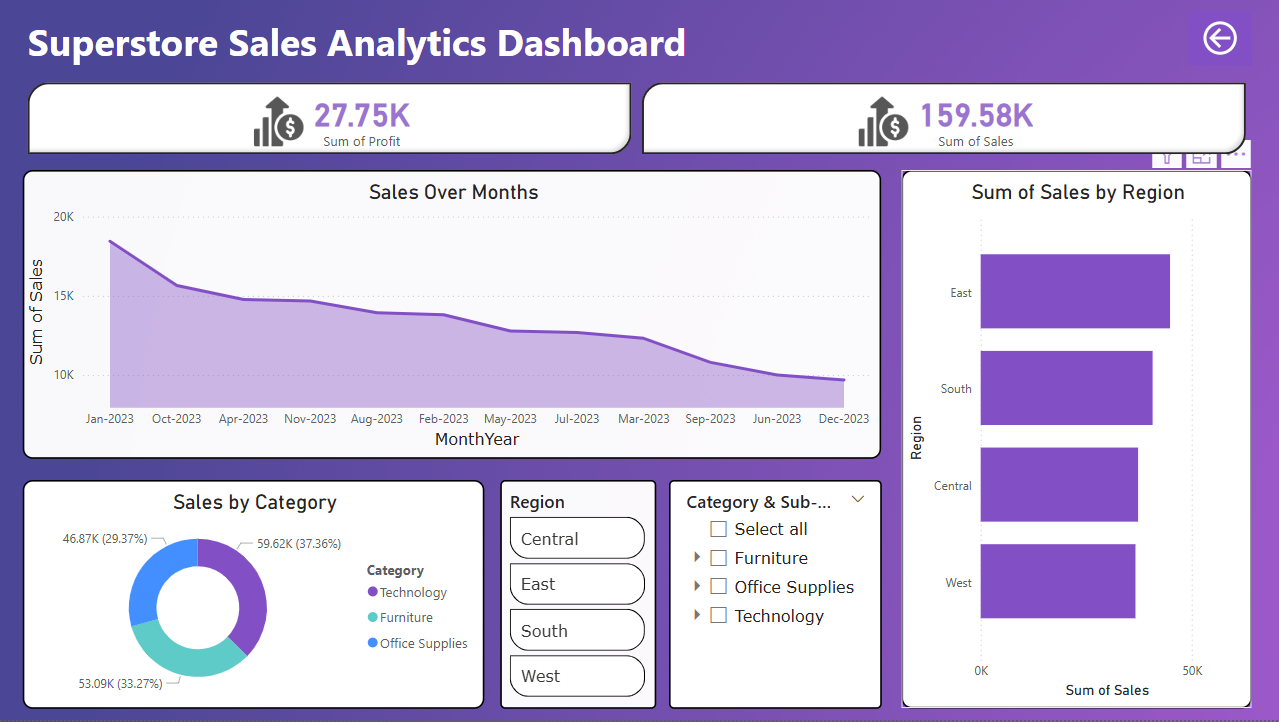

What the dashboard file says about the page in this screenshot:
{"tool":"powerbi","page":{"name":"Page 1","canvas":[1280,720],"ordinal":0},"visuals":[{"type":"areaChart","title":"Sales Over Months","fields":{"Category":["Superstore_Sales.MonthYear"],"Y":["Sum(Superstore_Sales.Sales)"]},"box":[24.3,170.3,858.6,288.6],"z":0},{"type":"donutChart","title":"Sales by Category","fields":{"Category":["Superstore_Sales.Category"],"Y":["Sum(Superstore_Sales.Sales)"]},"box":[24.3,480.3,461.4,228.6],"z":1000},{"type":"advancedSlicerVisual","fields":{"Values":["Superstore_Sales.Region"]},"box":[501.4,480.3,155.7,228.6],"z":2000},{"type":"slicer","fields":{"Values":["Superstore_Sales.Category","Superstore_Sales.Sub-Category"]},"box":[670,480.3,212.9,228.6],"z":3000},{"type":"clusteredBarChart","fields":{"Category":["Superstore_Sales.Region"],"Y":["Sum(Superstore_Sales.Sales)"]},"box":[902.9,170.3,350,538.6],"z":4000},{"type":"actionButton","box":[1188.6,11.4,64.3,54.3],"z":5000},{"type":"cardVisual","fields":{"Data":["Sum(Superstore_Sales.Profit)","Sum(Superstore_Sales.Sales)"]},"box":[24.3,77.4,1228.6,82.9],"z":6000},{"type":"textbox","box":[24.3,11,775.7,67.1],"z":7000}]}

Visuals, with their boxes in screenshot pixels (x1, y1, x2, y2), scaled from the page's 1280x720 canvas onto the 1279x722 screenshot:
"Sales Over Months" areaChart: <region>24, 171, 882, 460</region>
"Sales by Category" donutChart: <region>24, 482, 485, 711</region>
advancedSlicerVisual - Superstore_Sales.Region: <region>501, 482, 657, 711</region>
slicer - Superstore_Sales.Category x Superstore_Sales.Sub-Category: <region>669, 482, 882, 711</region>
clusteredBarChart - Superstore_Sales.Region x Sum(Superstore_Sales.Sales): <region>902, 171, 1252, 711</region>
actionButton: <region>1188, 11, 1252, 66</region>
cardVisual - Sum(Superstore_Sales.Profit) x Sum(Superstore_Sales.Sales): <region>24, 78, 1252, 161</region>
textbox: <region>24, 11, 799, 78</region>
